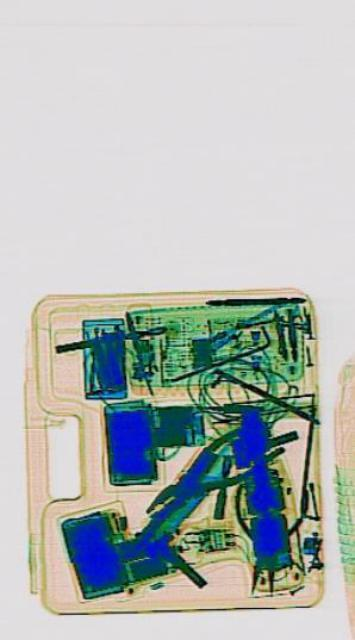Pliers: (138, 407, 271, 539), (225, 471, 308, 605)
